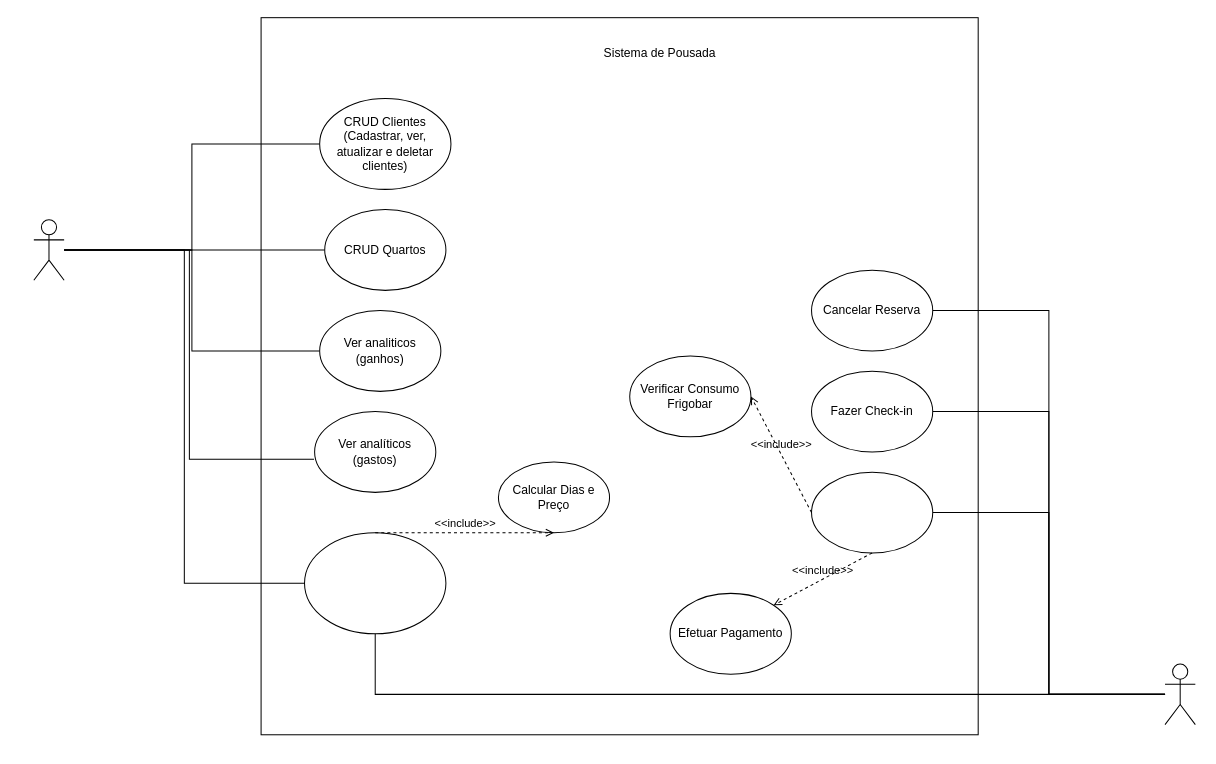
Image size: 1216x764. Some labels were removed from this diagram. Here are the shapes that lost their labels. From the top down, the centre of each, then its label:
At pixel 48 249: "Proprietario".
At pixel 872 512: "Fazer Check-out".
At pixel 375 583: "Create, Read, Update Reservas (Criar, ver reservas, atualizar reservas)".
At pixel 1179 694: "Cliente".
